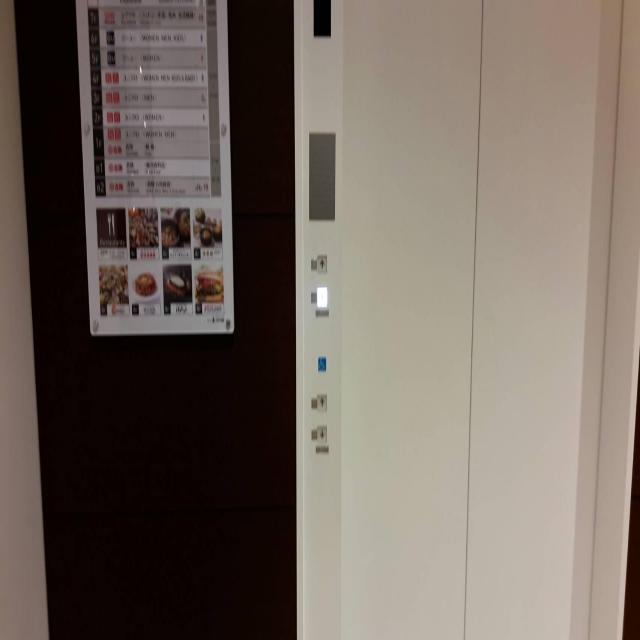CH: (318, 356, 326, 371)
blur: (316, 286, 328, 310)
down: (317, 426, 327, 444)
up: (316, 393, 328, 411), (316, 254, 326, 275)
